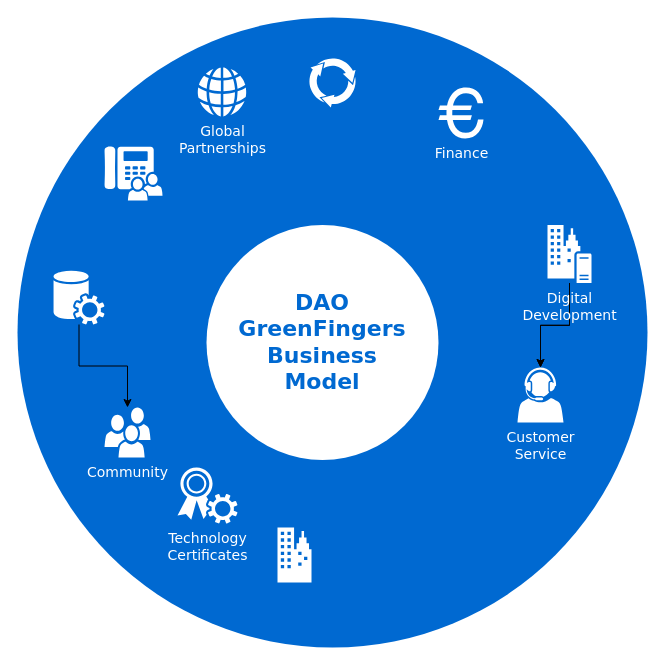
This 664x664 diagram has some shape labels left out. Here are the shapes that lost their labels. From the top down, the box of each, then its label:
(308, 57, 356, 107): Environmental Awareness
(104, 146, 162, 200): Response Group
(53, 270, 104, 324): Central Management Service
(277, 527, 311, 582): Infrastructure
